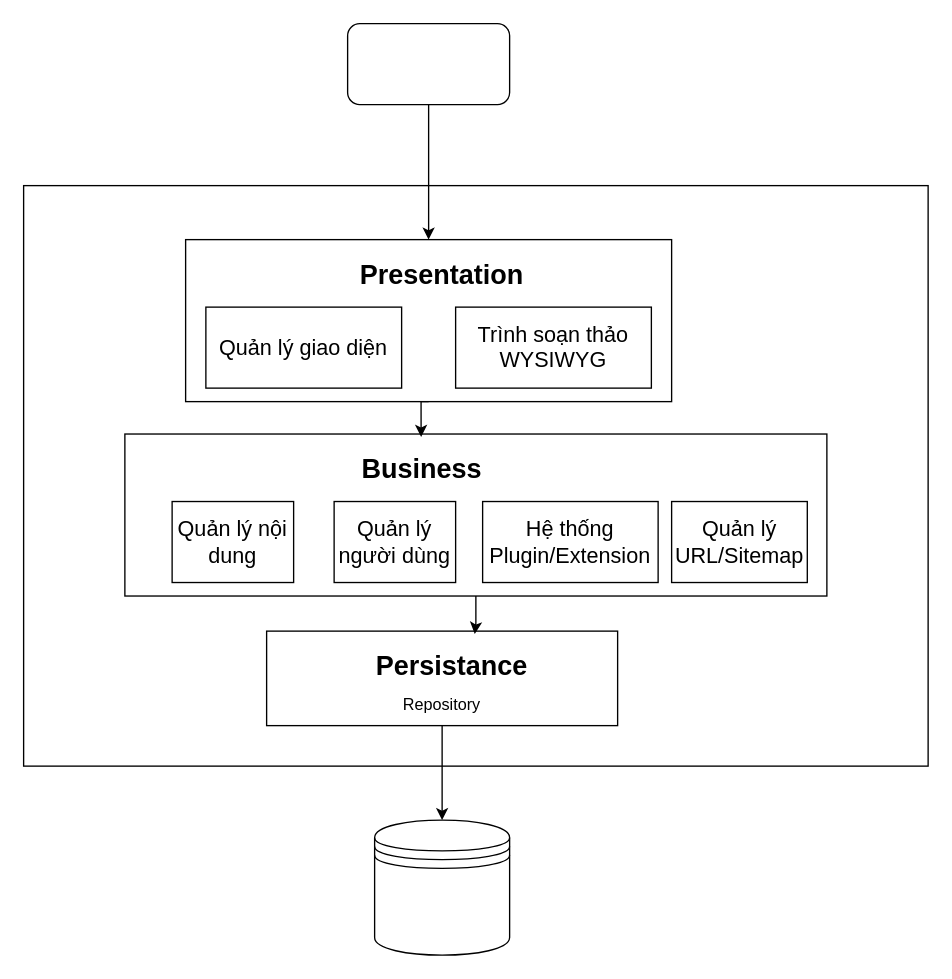
Some shapes in this 952 by 979 pixel diagram are drawn without their labels. The box of each missing label's shape, as (x1, y1, x2, y2) in pixels:
DB: (373, 819, 510, 955)
UI: (346, 22, 510, 105)
